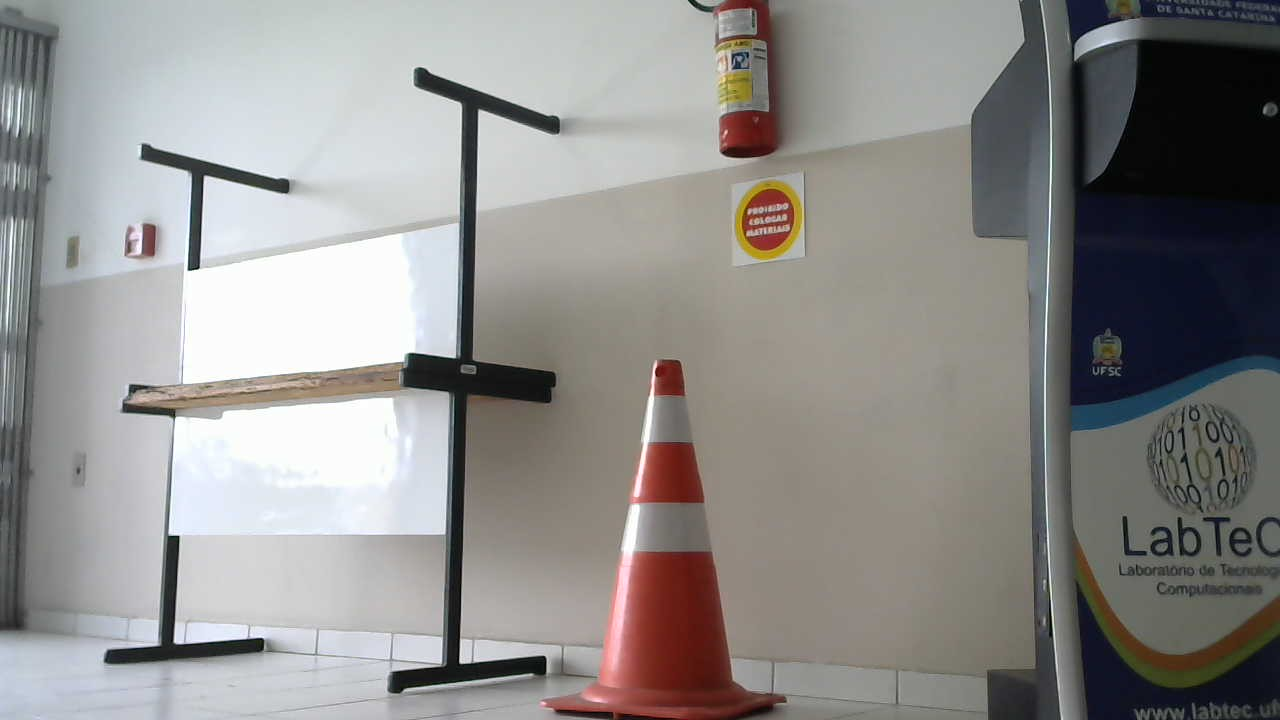cone: (549, 356, 786, 718)
